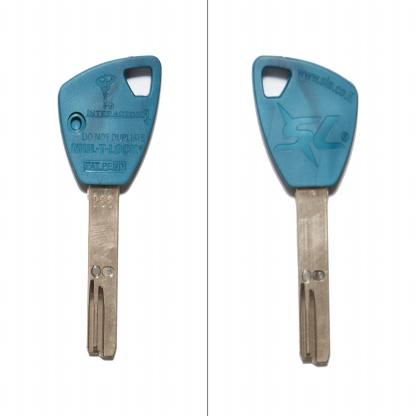key: (252, 53, 363, 369), (58, 49, 163, 344)
